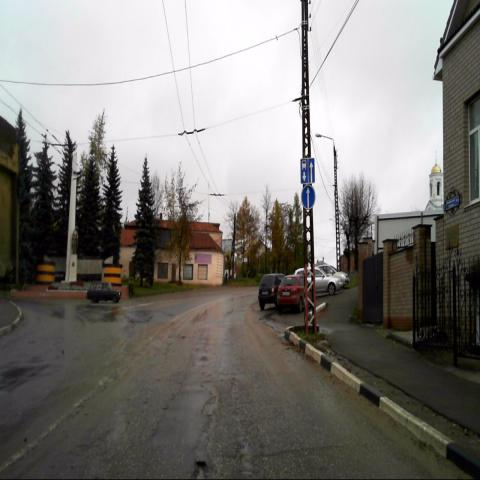5_11: (300, 158, 315, 184)
